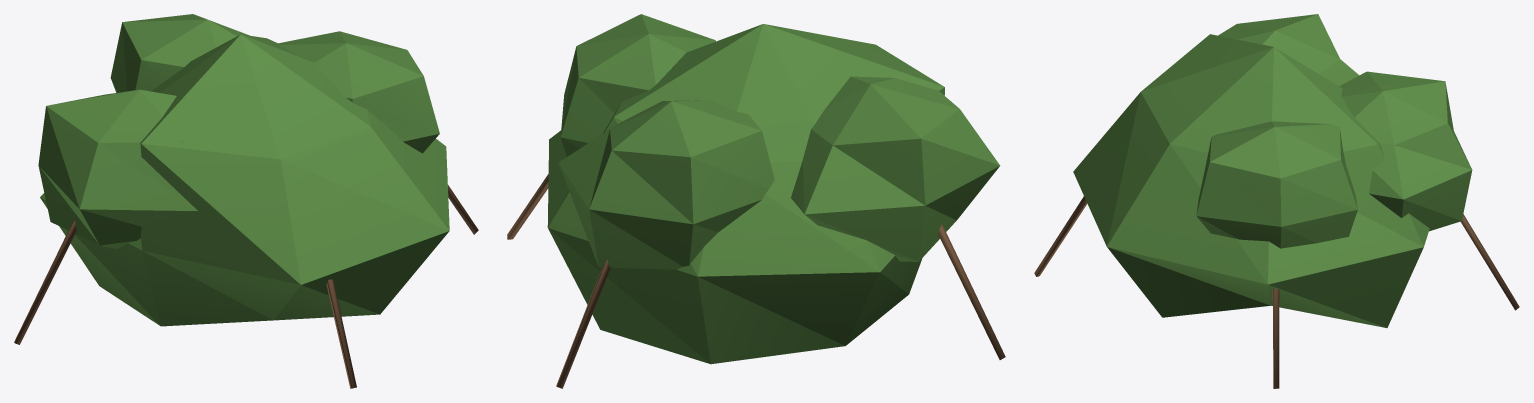
Rendered from bramble_2.glb.
3 renders of one model, left to right at view 1: azimuth 30°, elevation 25°; view 2: azimuth 150°, elevation 25°; view 3: azimuth 270°, elevation 25°, orthographic. The views are drawn at different scales.
Parts seen in each view (by area): view 1: bramble_2; view 2: bramble_2; view 3: bramble_2.
Part boxes in pixels (x1,y1,x2,y2): bramble_2: (14,14,478,388); bramble_2: (507,14,1005,388); bramble_2: (1034,14,1519,388).
Bounding box in the file's own units: 2.01 × 1.16 × 1.98.
